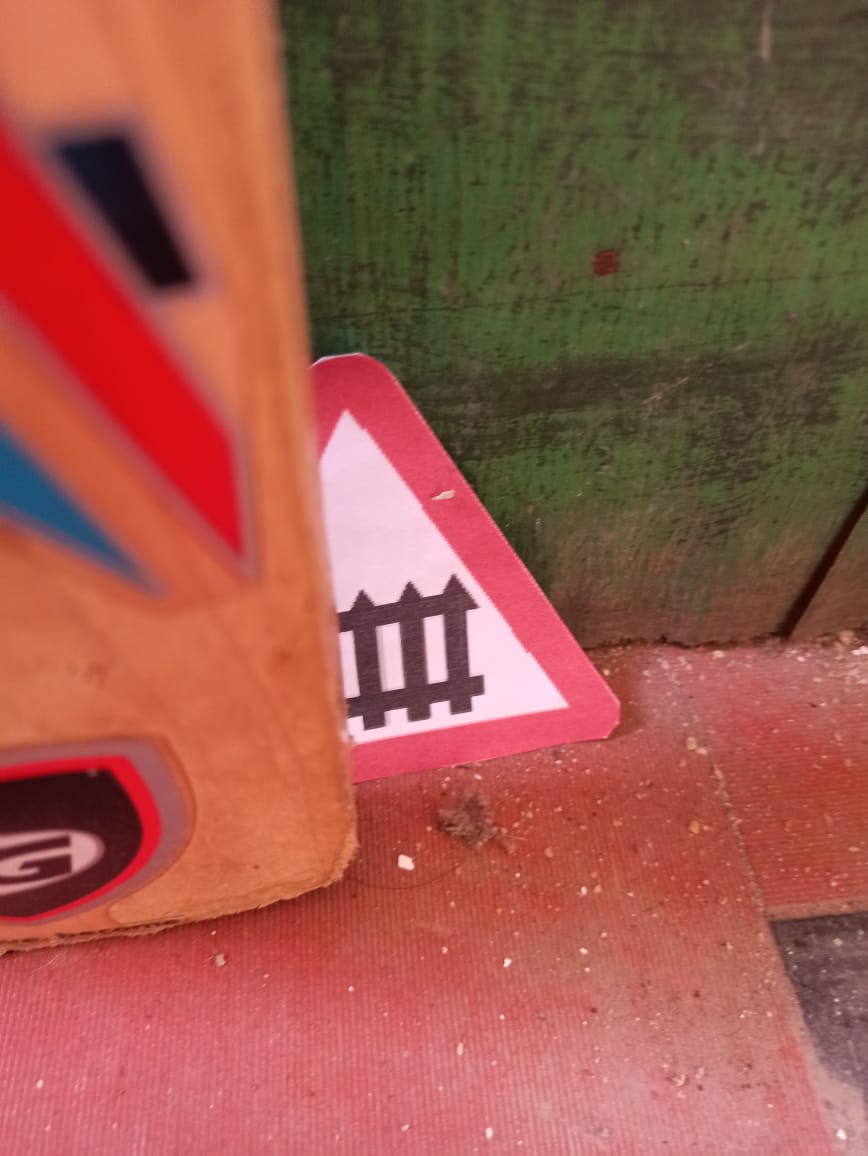GUARDED LEVEL CROSSING: (182, 328, 642, 770)
